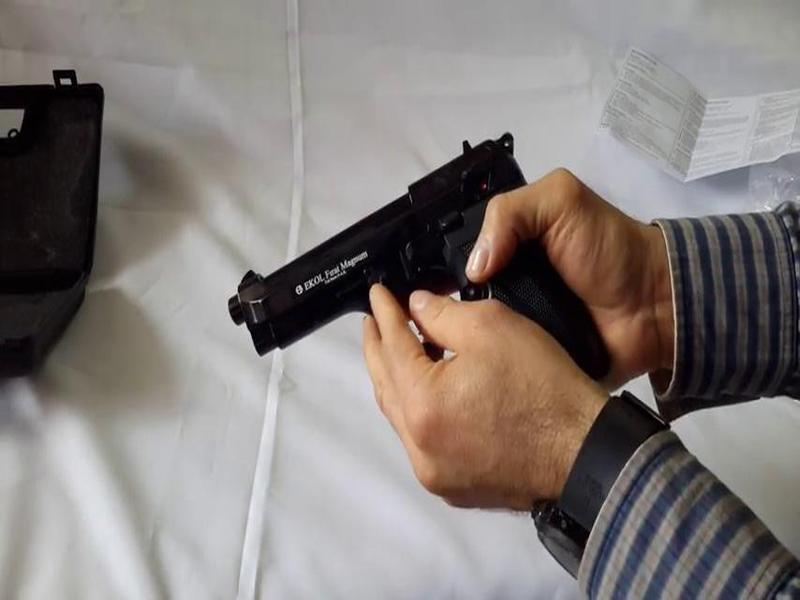Pistola: (190, 122, 606, 384)
